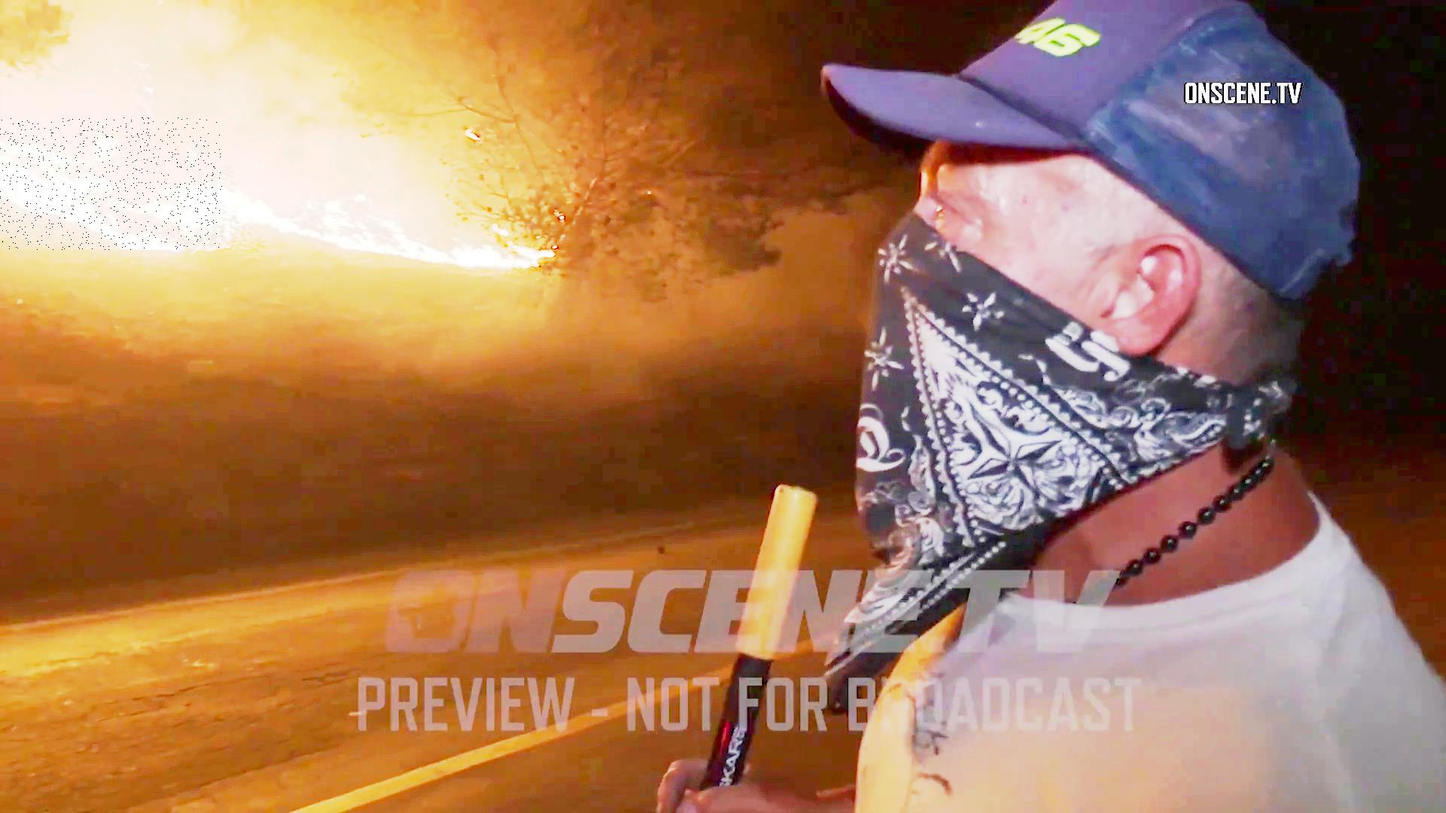fire: (0, 117, 222, 250)
